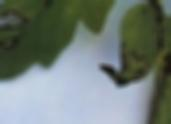Tomato leaf bacterial spot: (0, 0, 120, 88), (103, 0, 171, 124)
